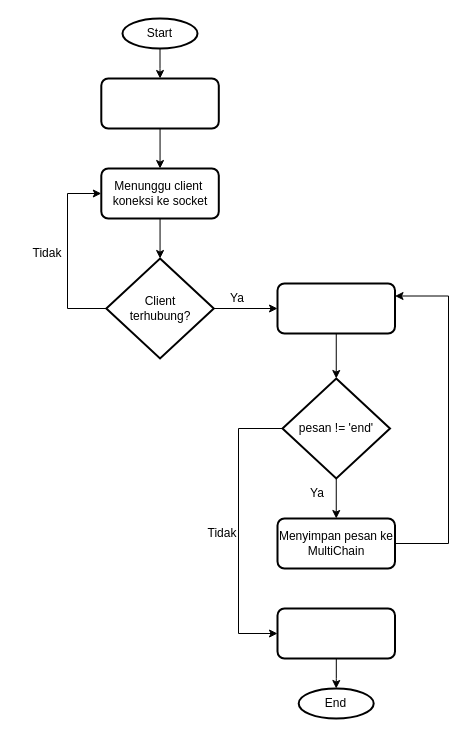
Image size: 474x736. Some labels were removed from this diagram. The shapes that lost their labels are listed below. From the top down, each one's box as (x1, y1, x2, y2) in pixels, then its label:
(100, 77, 219, 129): Membuat Socket
(276, 282, 396, 334): Menunggu dan menerima pesan dari client
(276, 607, 396, 659): Menutup Socket
